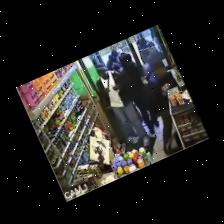person: (96, 65, 149, 145), (120, 52, 159, 135), (144, 62, 178, 153), (146, 42, 164, 65), (137, 33, 149, 63), (107, 55, 114, 70), (113, 63, 122, 72)
